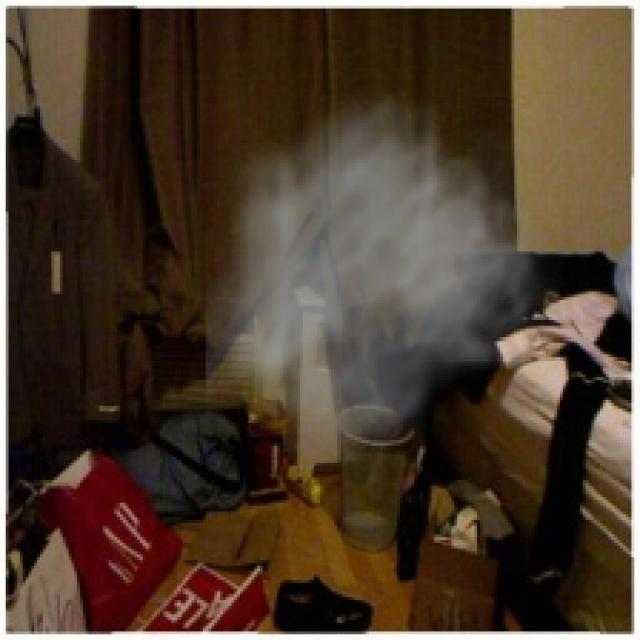Smoke: (205, 77, 578, 472)
